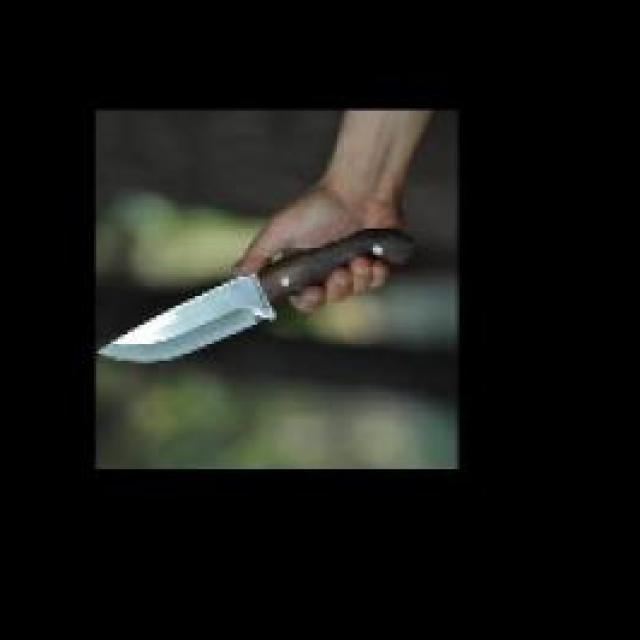knife: (90, 221, 412, 366)
